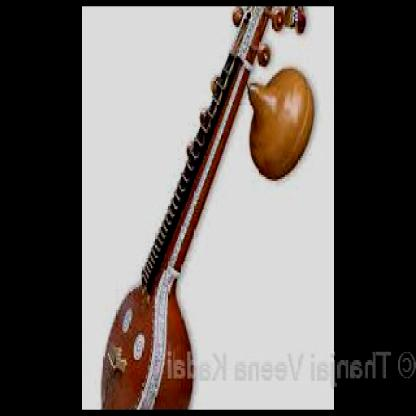Veena: (100, 121, 231, 413)
